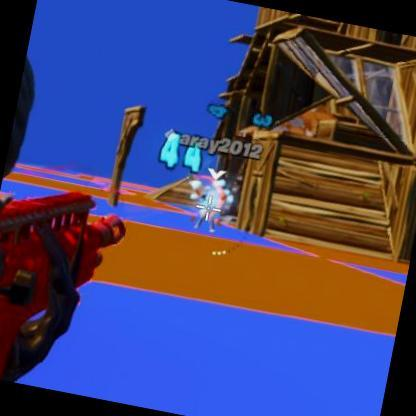person: (193, 180, 225, 235)
